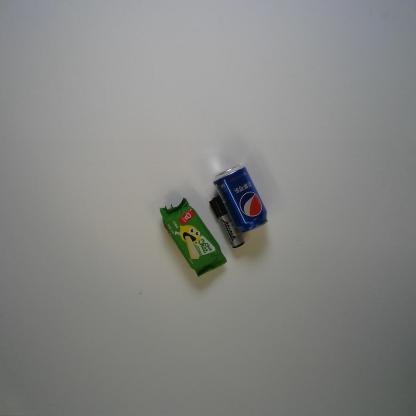Dessert: (159, 197, 228, 278)
Drink: (212, 164, 268, 235)
Stationery: (208, 195, 245, 249)
